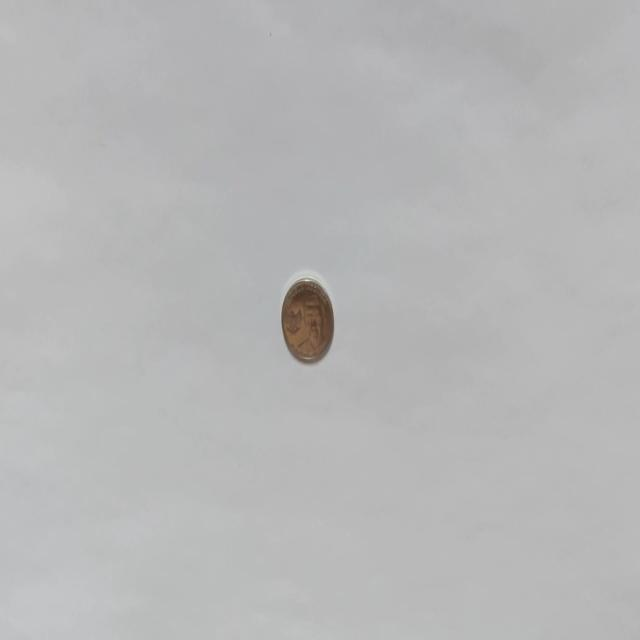seribu rupiah koin: (280, 271, 334, 365)
